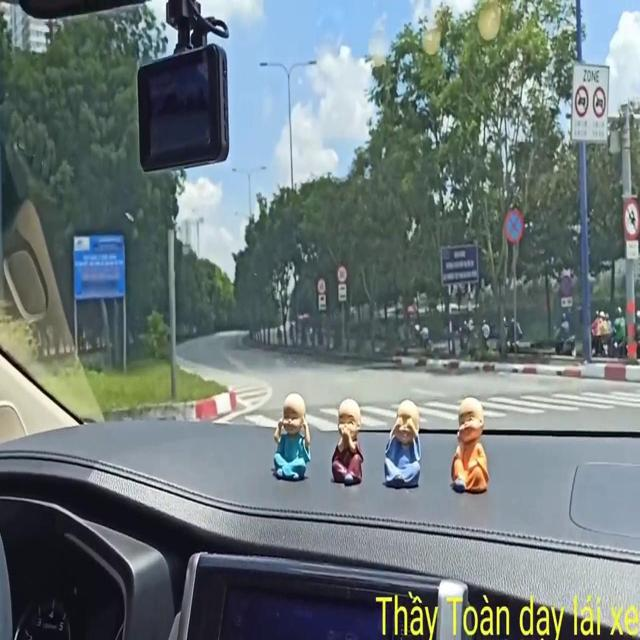Biển phụ: (625, 238, 638, 260), (337, 283, 346, 301), (319, 293, 326, 313), (560, 296, 571, 307)
Cấm các phương tiện hoạt động trong khung giờ cố định: (569, 56, 614, 144)
Cấm dừng - Cấm đỗ: (496, 196, 524, 238), (559, 269, 571, 298)
Cấm xe máy: (618, 197, 637, 235)
Giới hạn tốc độ: 60Km/h: (316, 276, 328, 295)
Giới hạn tốc độ: 80Km/h: (334, 258, 349, 282)
Khác: (66, 223, 127, 303), (439, 246, 481, 289)
